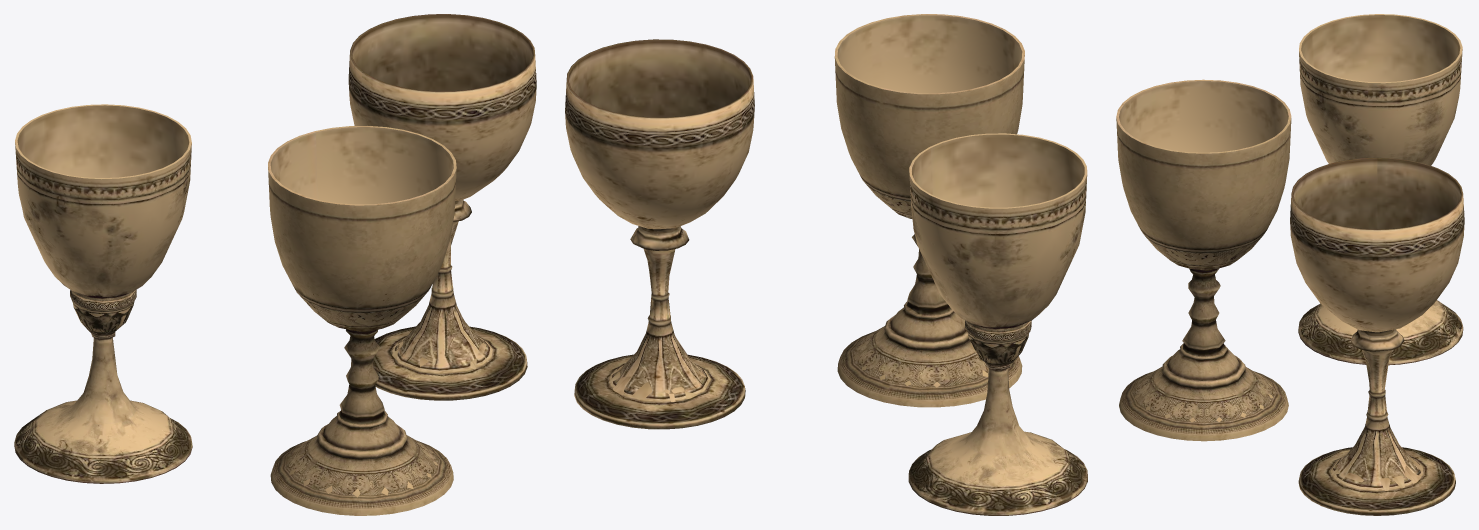
Rendered from goblets.glb.
3 renders of one model, left to right at view 1: azimuth 30°, elevation 25°; view 2: azimuth 150°, elevation 25°; view 3: azimuth 270°, elevation 25°, orthographic. The views are drawn at different scales.
Parts seen in each view (by area): view 1: brass_goblet_01, brass_goblet_02, brass_goblet_03; view 2: brass_goblet_02, brass_goblet_03, brass_goblet_01; view 3: brass_goblet_01, brass_goblet_03, brass_goblet_02.
Part boxes in pixels (box(x1,y1,x2,y2)): brass_goblet_01: box(268, 126, 456, 515); brass_goblet_02: box(14, 104, 192, 483); brass_goblet_03: box(348, 14, 536, 400); brass_goblet_02: box(908, 133, 1087, 515); brass_goblet_03: box(565, 39, 754, 429); brass_goblet_01: box(834, 14, 1024, 407); brass_goblet_01: box(1116, 79, 1291, 441); brass_goblet_03: box(1290, 157, 1464, 515); brass_goblet_02: box(1298, 14, 1463, 365).
Size of the model in its own units: 0.4534 by 0.2734 by 0.2976.
3 materials, 3 textured.
